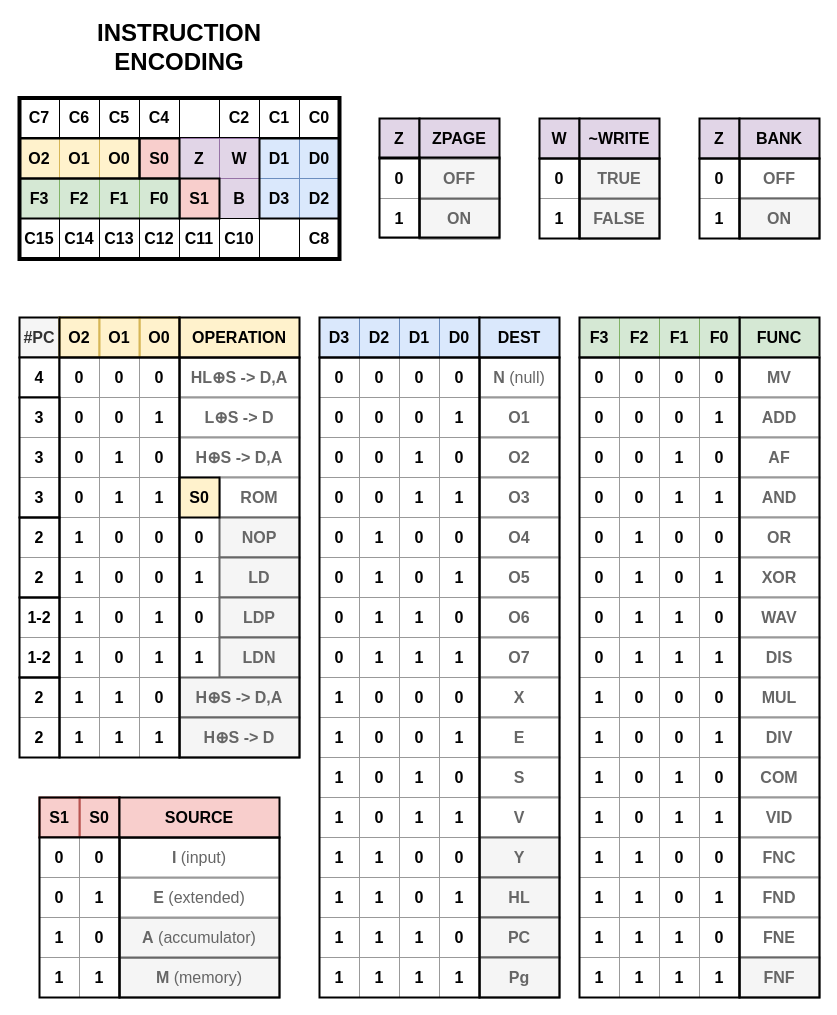
This 837x1015 diagram has some shape labels left out. Here are the shapes that lost their labels. From the top down, the centre of each, then its label:
At (199,117): "C3".
At (279,238): "C9".
